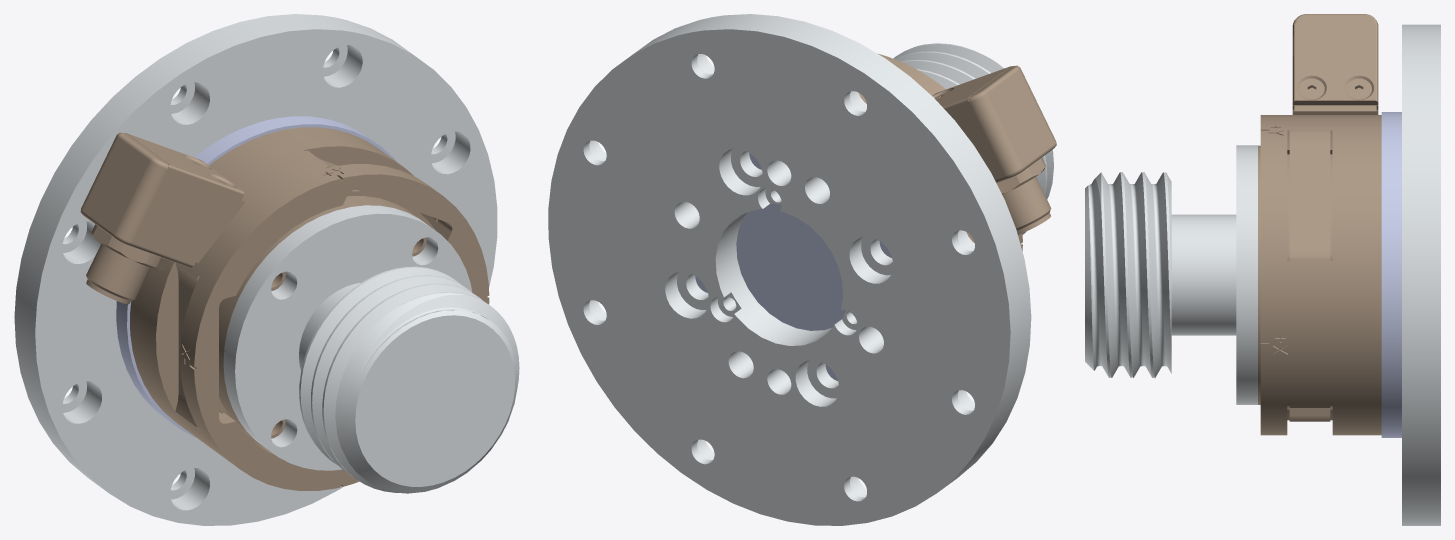
File: M48_P5_bolt.obj
3 renders of one model, left to right at view 1: azimuth 30°, elevation 25°; view 2: azimuth 150°, elevation 25°; view 3: azimuth 270°, elevation 25°, orthographic. The views are drawn at different scales.
Visible parts, largest first — view 1: mesh 1 bolt-1, mesh 2 ATI-DEFAULT_wo_mount-1, mesh 3 [Table] ATI_GAMMA_Environment_mount-1; view 2: mesh 1 bolt-1, mesh 2 ATI-DEFAULT_wo_mount-1, mesh 3 [Table] ATI_GAMMA_Environment_mount-1; view 3: mesh 1 bolt-1, mesh 2 ATI-DEFAULT_wo_mount-1, mesh 3 [Table] ATI_GAMMA_Environment_mount-1.
Boxes of the visible parts, x1=… form: mesh 1 bolt-1: x1=14, y1=14, x2=519, y2=525; mesh 2 ATI-DEFAULT_wo_mount-1: x1=80, y1=127, x2=489, y2=490; mesh 3 [Table] ATI_GAMMA_Environment_mount-1: x1=116, y1=116, x2=396, y2=437; mesh 1 bolt-1: x1=548, y1=14, x2=1053, y2=525; mesh 2 ATI-DEFAULT_wo_mount-1: x1=858, y1=53, x2=1056, y2=251; mesh 3 [Table] ATI_GAMMA_Environment_mount-1: x1=695, y1=153, x2=891, y2=380; mesh 1 bolt-1: x1=1085, y1=24, x2=1440, y2=525; mesh 2 ATI-DEFAULT_wo_mount-1: x1=1258, y1=14, x2=1381, y2=435; mesh 3 [Table] ATI_GAMMA_Environment_mount-1: x1=1381, y1=112, x2=1401, y2=437.
Size of the model in its own units: 0.1159 by 0.1159 by 0.0823.
